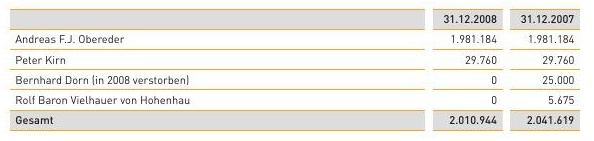table: (0, 0, 594, 141)
